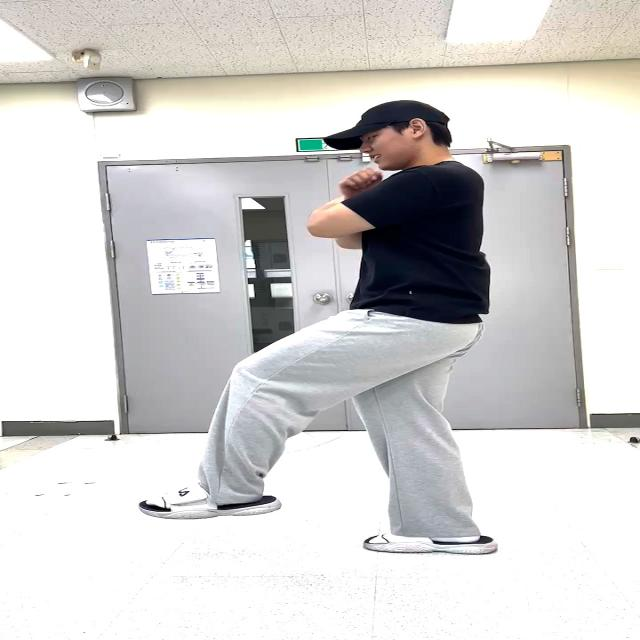leg: (127, 309, 362, 522)
